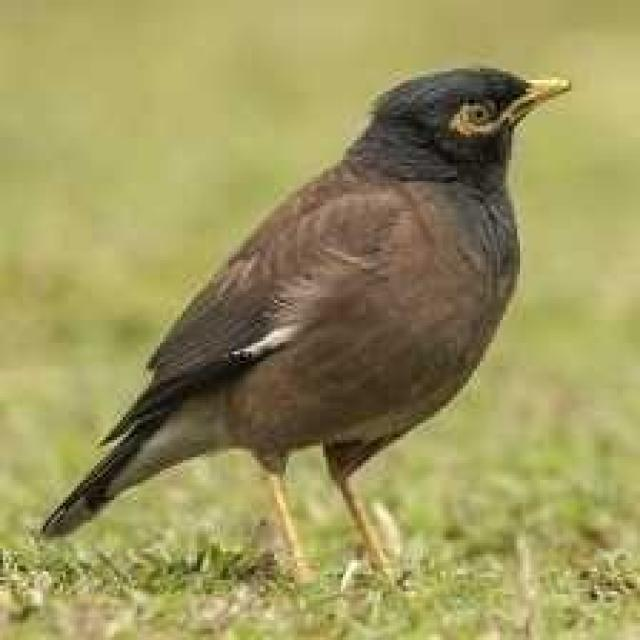bird: (36, 47, 589, 608)
